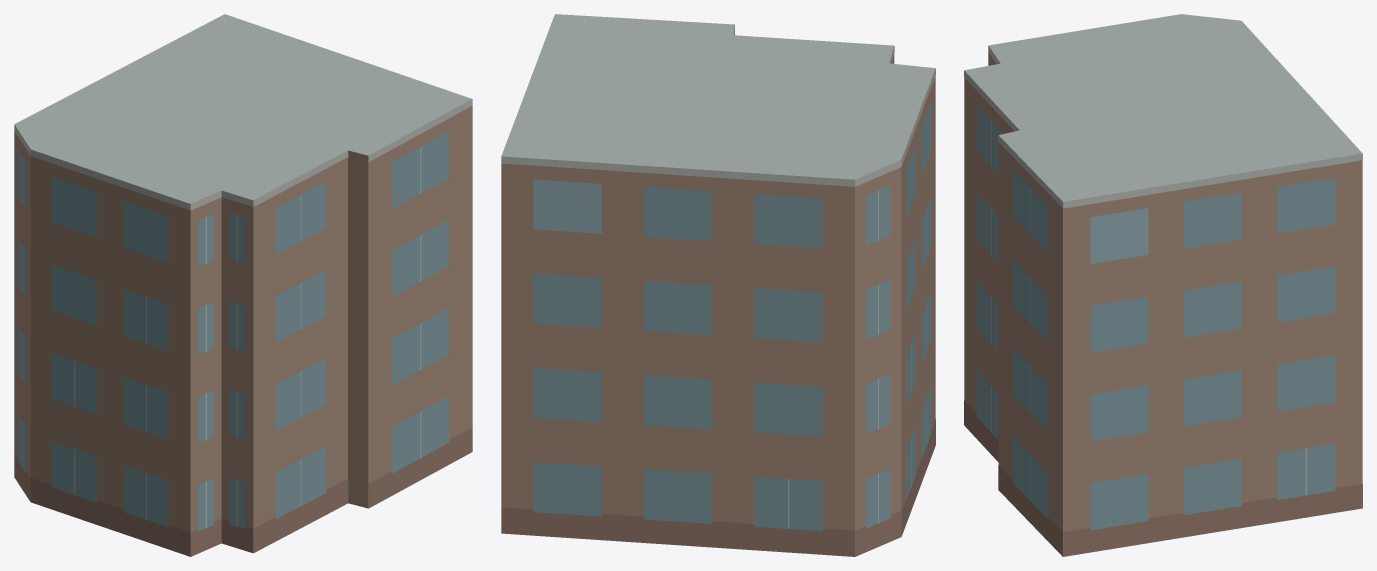
Rendered from survey-upis-32948572.glb.
The picture shows the model from 3 angles, left to right: view 1: azimuth 30°, elevation 25°; view 2: azimuth 150°, elevation 25°; view 3: azimuth 270°, elevation 25°; orthographic projection. The views are drawn at different scales.
Visible parts, largest first — view 1: survey-upis-32948572.tmp; view 2: survey-upis-32948572.tmp; view 3: survey-upis-32948572.tmp.
Boxes of the visible parts, x1,y1,x2,y2 form: survey-upis-32948572.tmp: [14, 14, 472, 556]; survey-upis-32948572.tmp: [501, 14, 935, 556]; survey-upis-32948572.tmp: [964, 14, 1362, 556].
Size of the model in its own units: 14.78 by 13 by 13.25.
